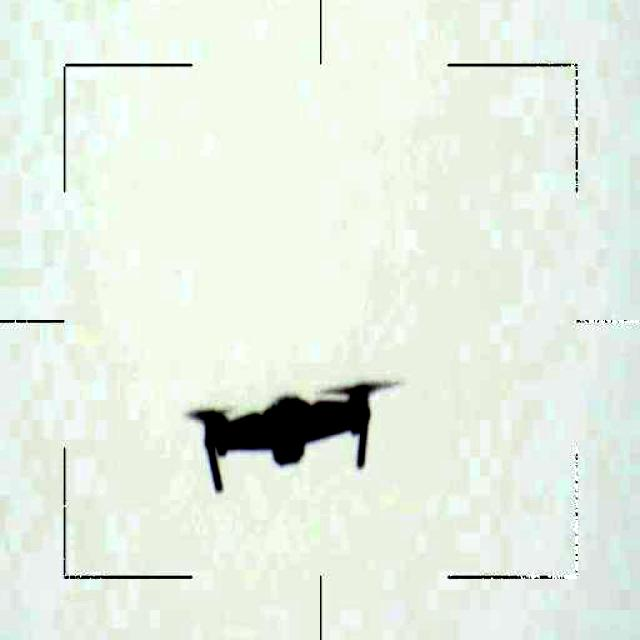bird: (180, 369, 398, 500)
